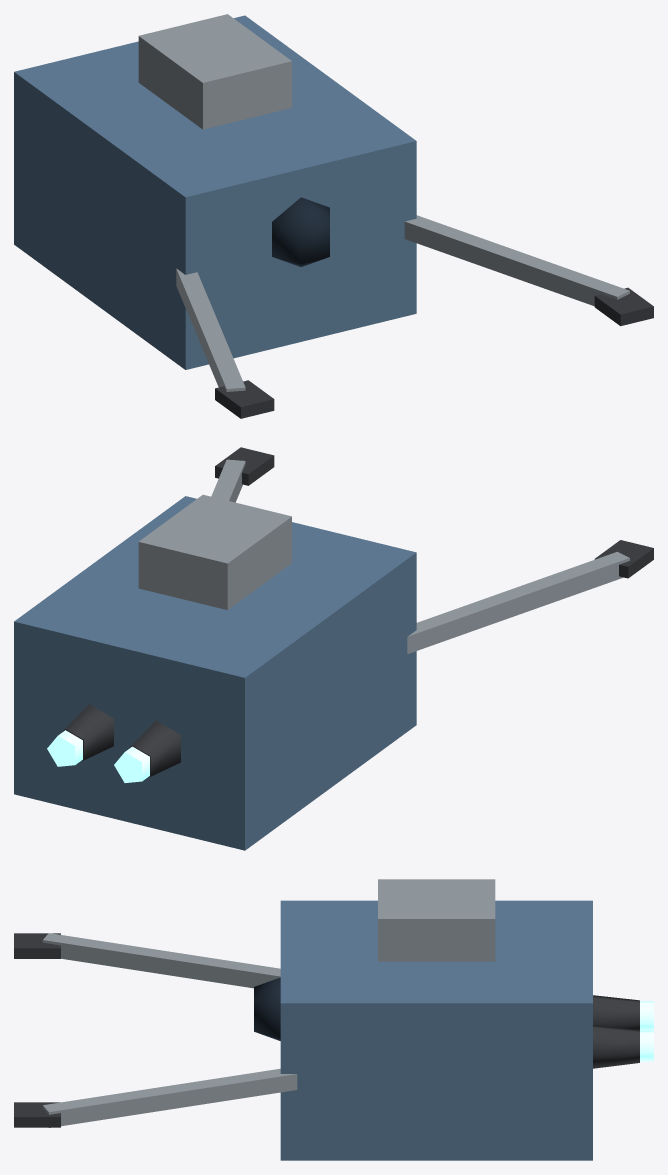
The model's file is space_ship_builder_drone_mk5_lod1.glb.
The picture shows the model from 3 angles, top to bottom: view 1: azimuth 30°, elevation 25°; view 2: azimuth 150°, elevation 25°; view 3: azimuth 270°, elevation 25°; orthographic projection. The views are drawn at different scales.
Parts seen in each view (by area): view 1: body, arm_1, arm_0; view 2: body, arm_0, engine_0, engine_1, arm_1; view 3: body, arm_1, arm_0, engine_1, engine_0.
Part boxes in pixels (x1,y1,x2,y2): body: (14,14,416,369); arm_1: (404,215,653,326); arm_0: (176,268,274,418); body: (14,494,416,850); arm_0: (407,540,653,654); engine_0: (114,720,180,782); engine_1: (47,704,113,766); arm_1: (211,447,274,502); body: (254,879,592,1160); arm_1: (14,1068,297,1127); arm_0: (14,933,280,988); engine_1: (593,1025,653,1068); engine_0: (593,995,653,1030).
Size of the model in its own units: 3.7 by 1.98 by 5.46.
